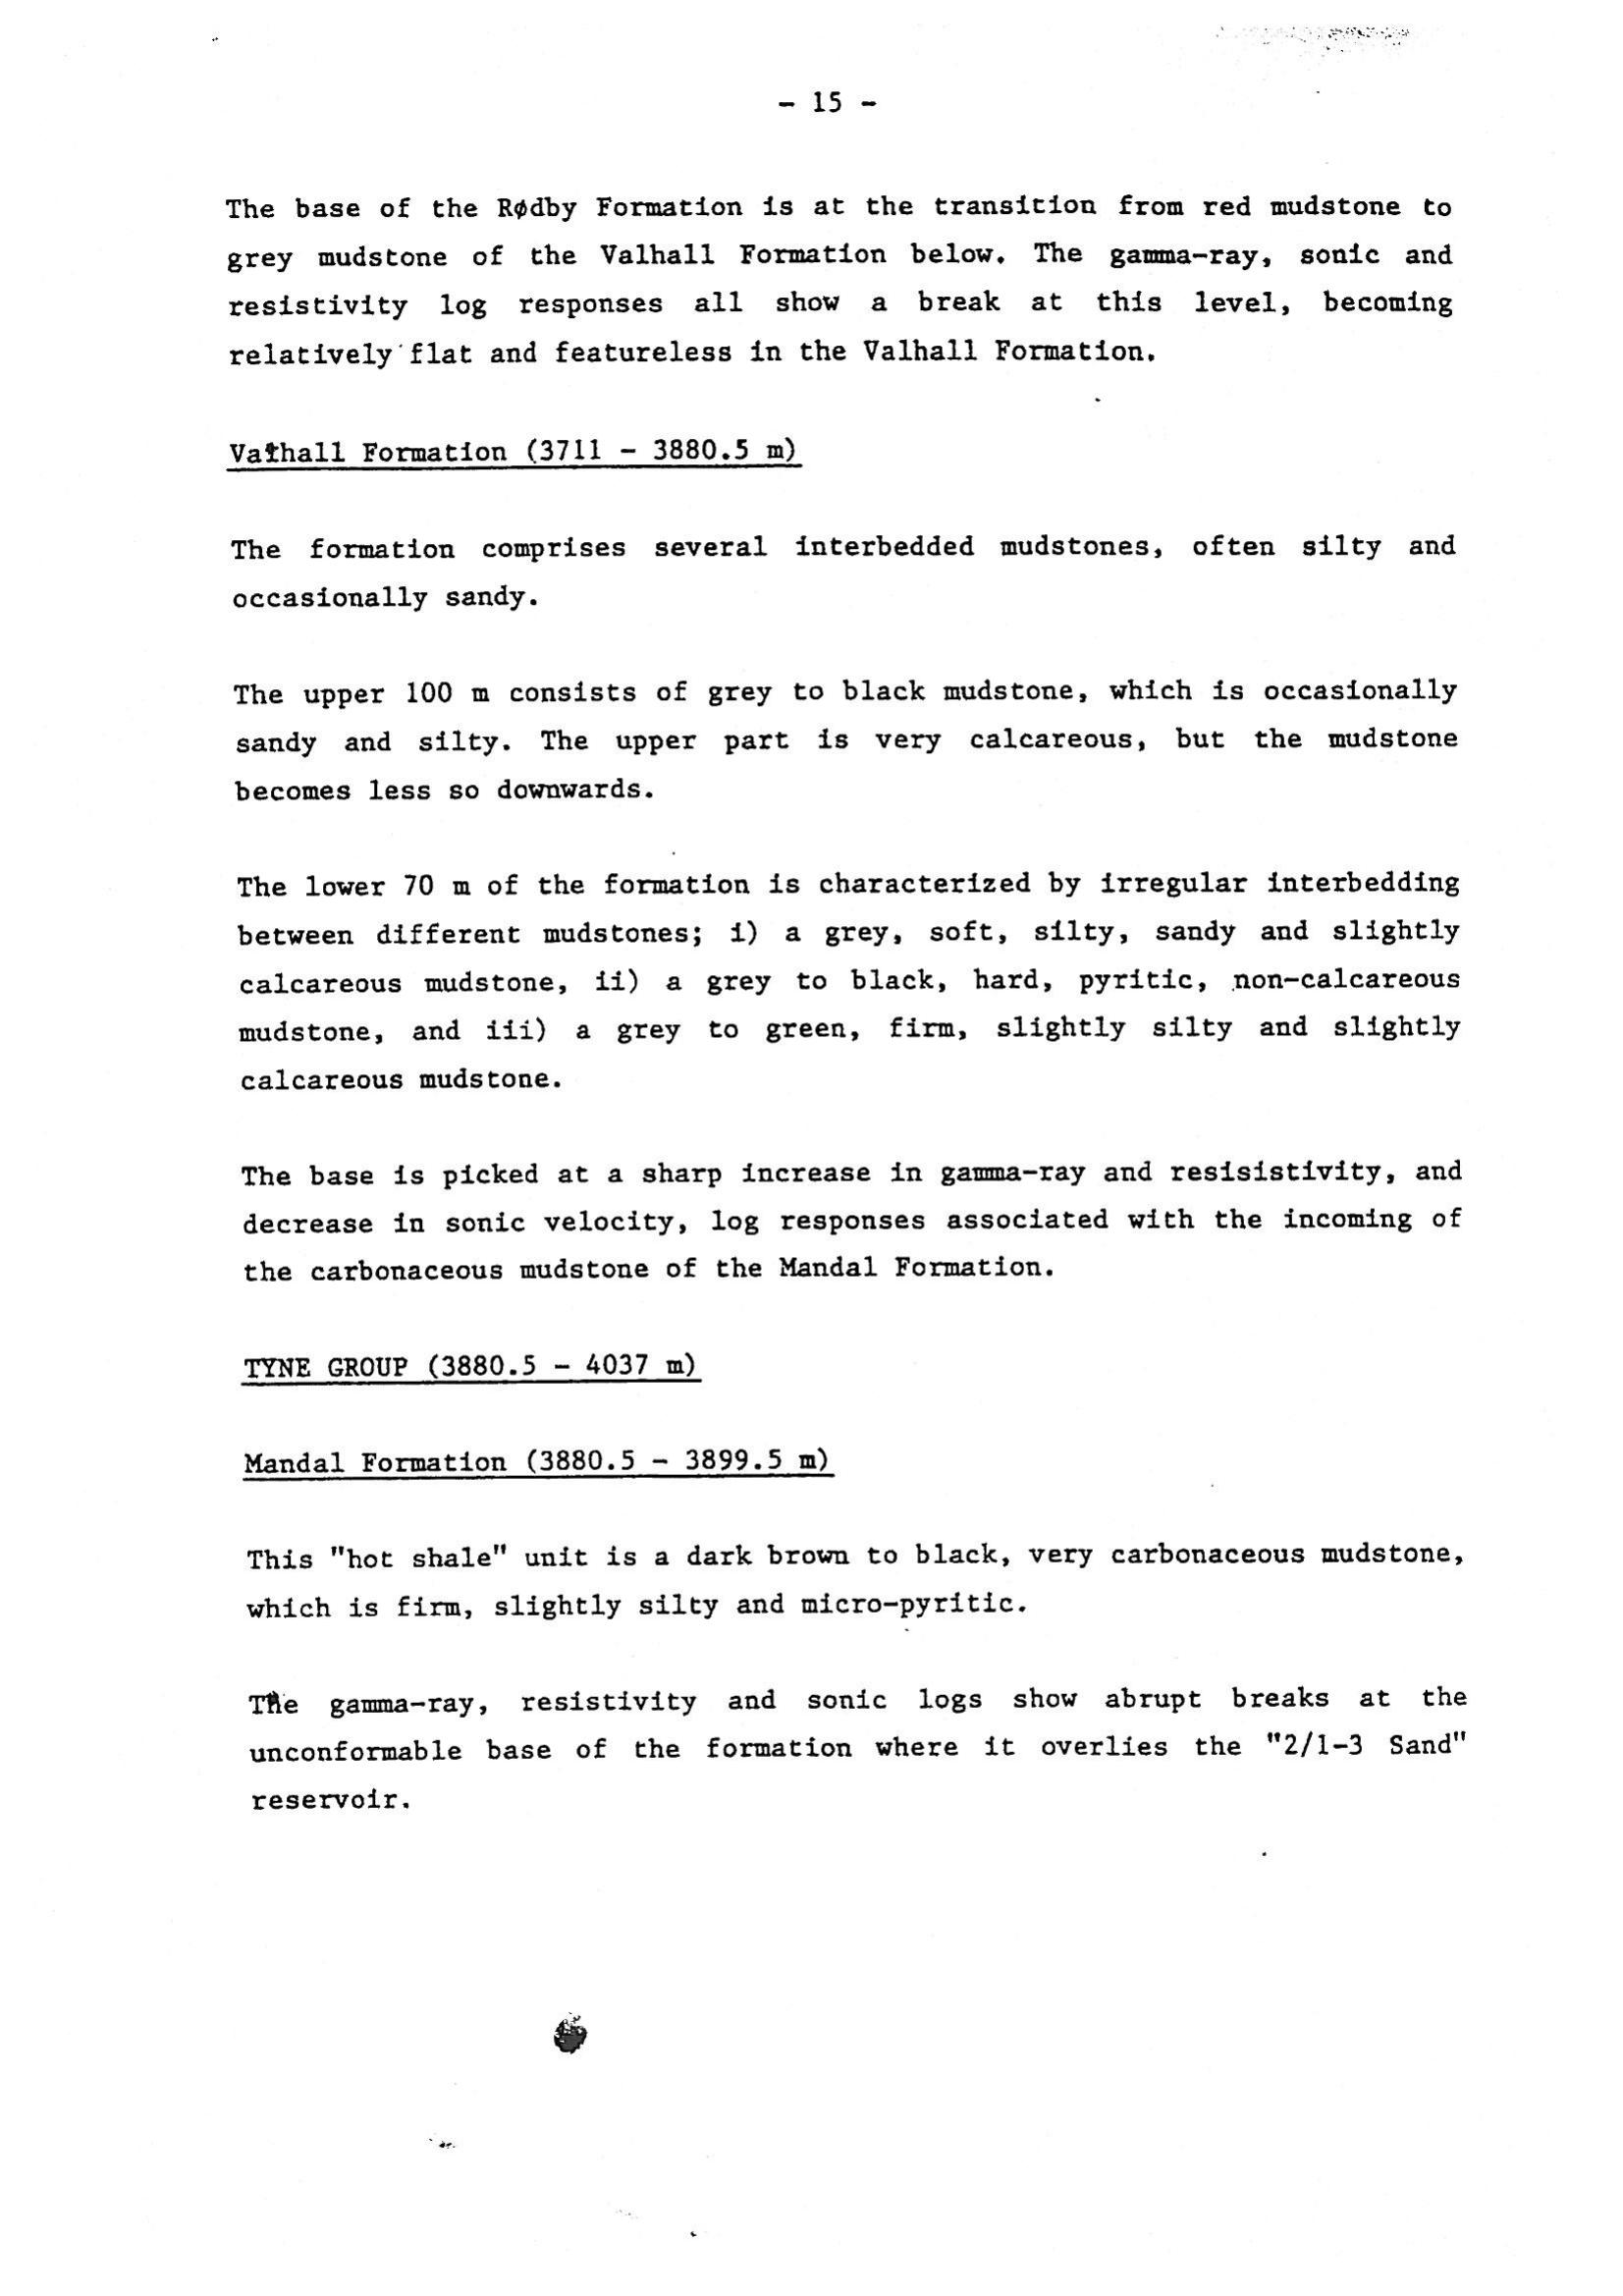text: (206, 179, 1493, 1333), (221, 1340, 1498, 1841)
